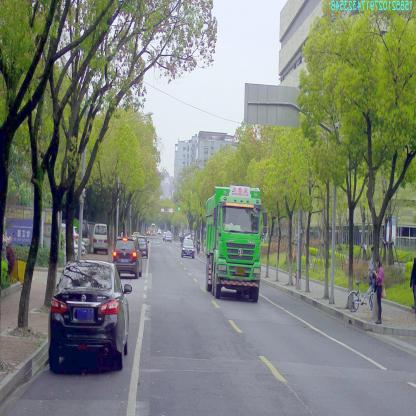traffic-light: (178, 206, 180, 210)
